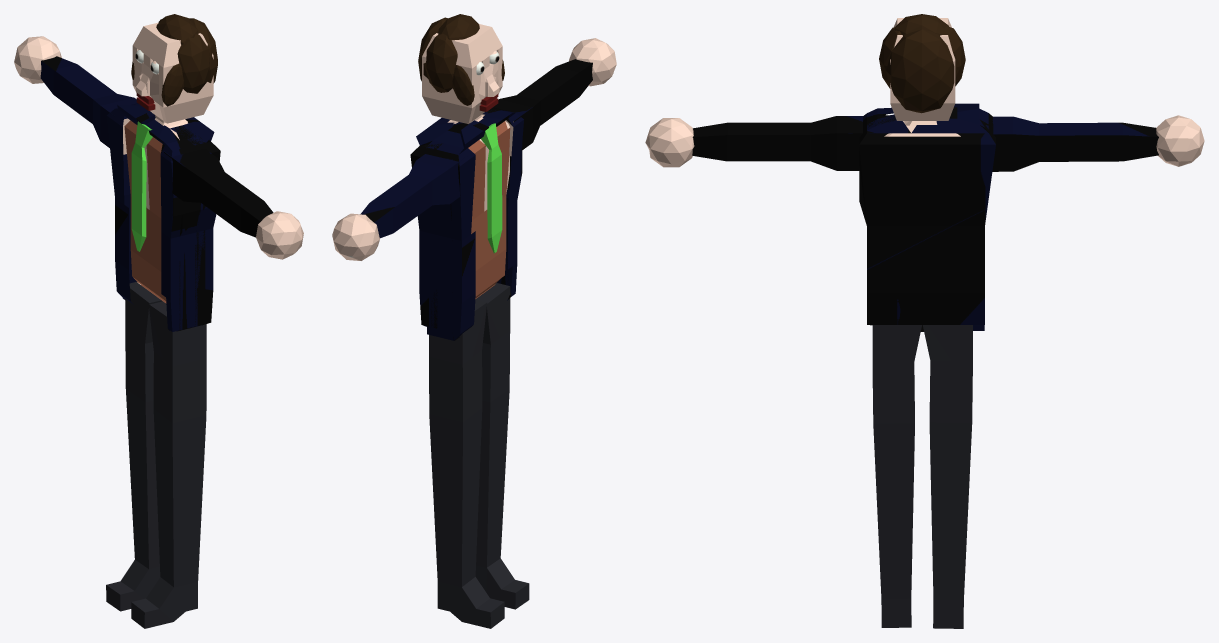
The model's file is Baolo.glb.
The picture shows the model from 3 angles, left to right: view 1: azimuth 30°, elevation 25°; view 2: azimuth 150°, elevation 25°; view 3: azimuth 270°, elevation 25°; orthographic projection. The views are drawn at different scales.
Visible parts, largest first — view 1: Cube; view 2: Cube; view 3: Cube.
Boxes of the visible parts, x1,y1,x2,y2 form: Cube: (14, 14, 303, 628); Cube: (332, 14, 616, 628); Cube: (645, 14, 1204, 628).
Bounding box in the file's own units: 2.25 × 14.74 × 12.03.
Materials: 7 (7 with a texture image).
